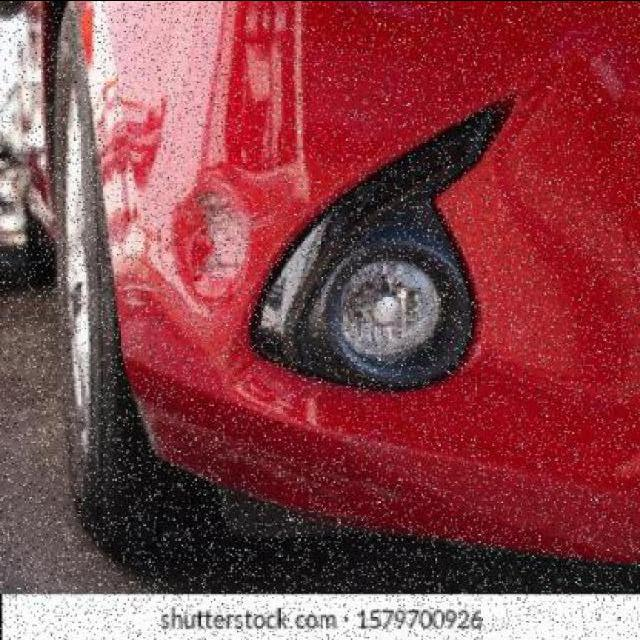front-bumper-dent: (103, 4, 627, 521)
